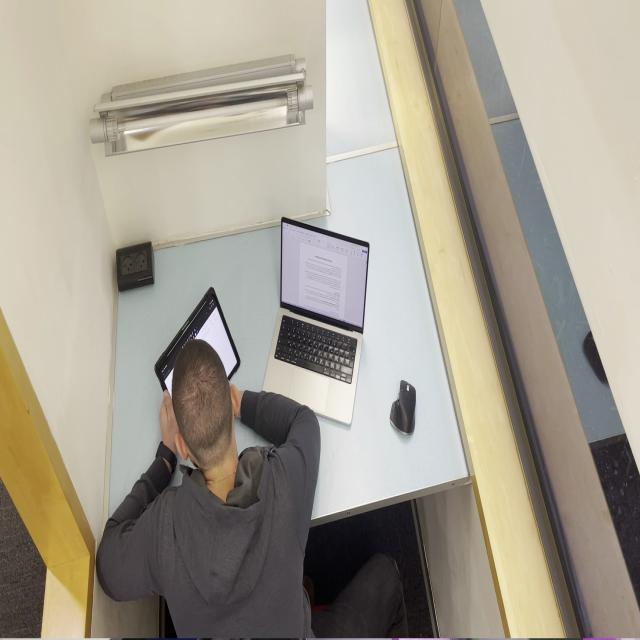bag: (152, 300, 242, 412)
ipad: (95, 339, 408, 639)
laptop: (260, 215, 370, 427)
mouse: (389, 379, 416, 437)
